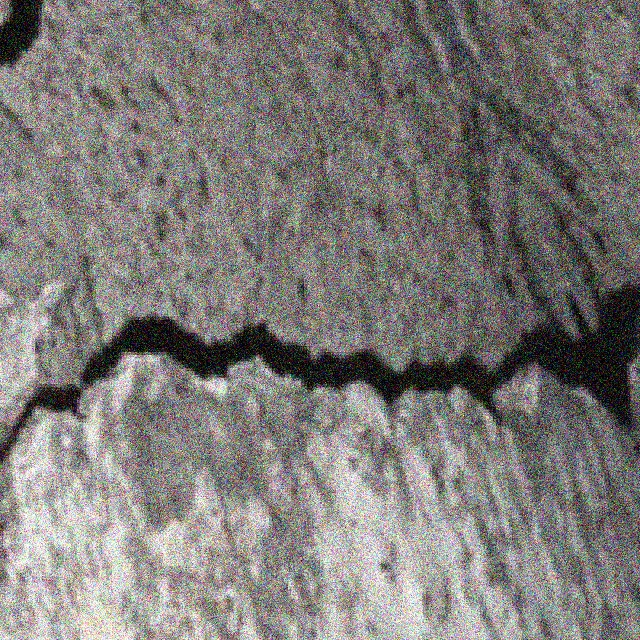SurfaceCrack: (6, 260, 640, 500)
